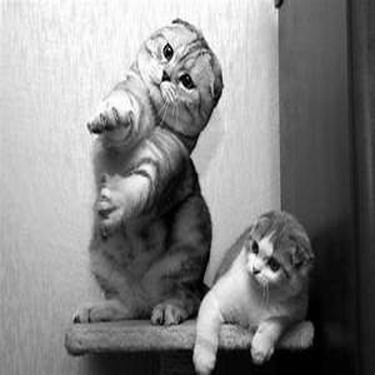cat: (74, 14, 222, 324), (191, 205, 314, 367)
